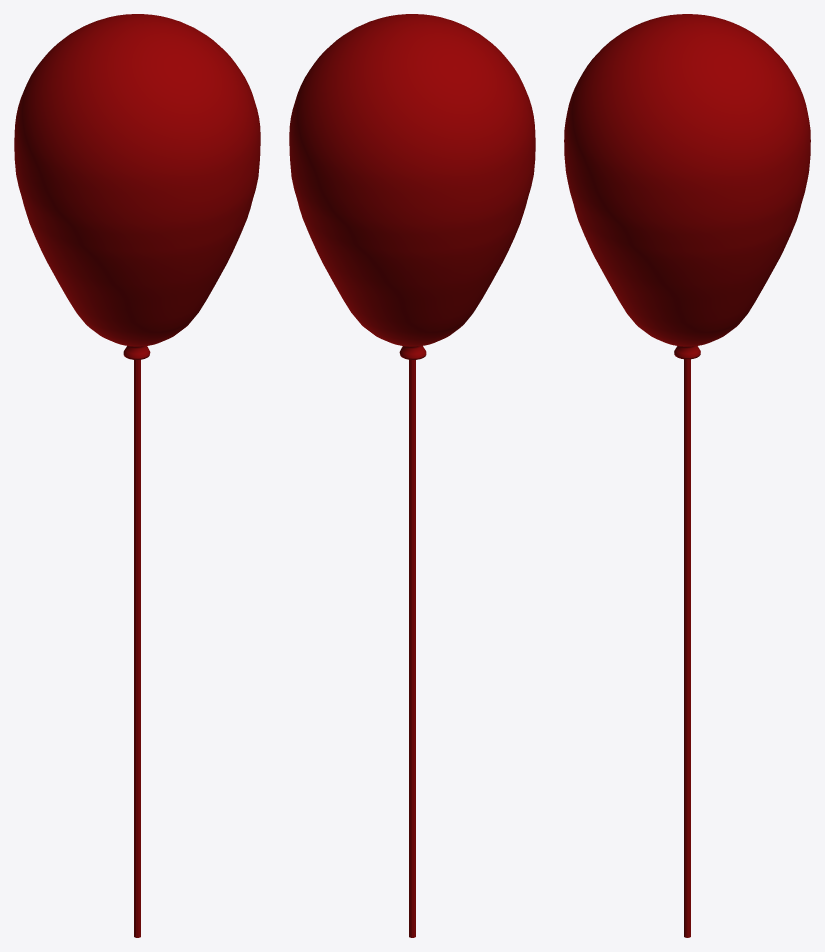
Rendered from Globo.obj.
3 renders of one model, left to right at view 1: azimuth 30°, elevation 25°; view 2: azimuth 150°, elevation 25°; view 3: azimuth 270°, elevation 25°, orthographic.
Visible parts, largest first — view 1: Balloon; view 2: Balloon; view 3: Balloon.
Boxes of the visible parts, x1,y1,x2,y2 form: Balloon: (14,14,260,937); Balloon: (289,14,535,937); Balloon: (564,14,810,937).
Size of the model in its own units: 1.32 by 5.4 by 1.32.
Materials: 1 (1 with a texture image).
